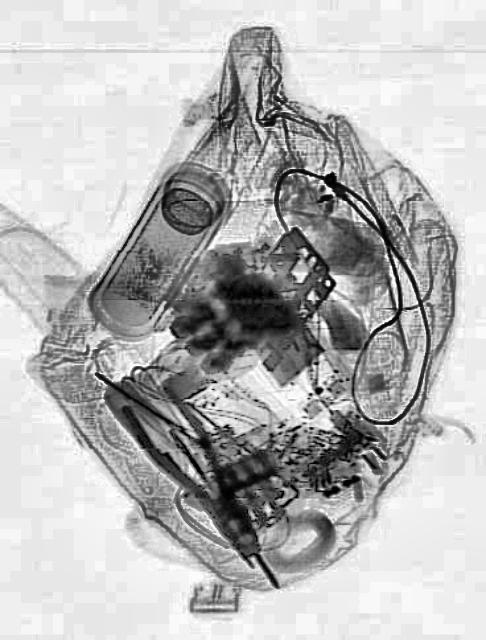Pliers: (116, 366, 276, 578)
